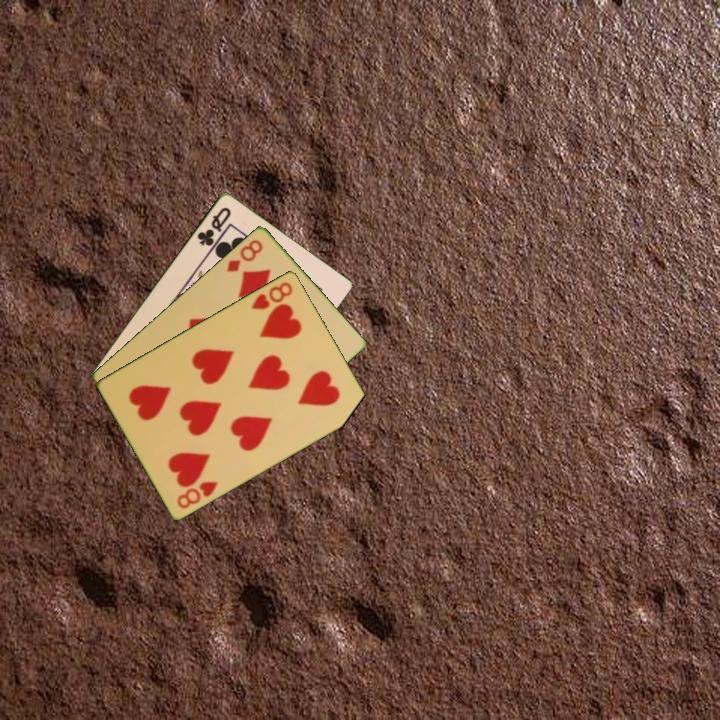8d: (223, 236, 266, 275)
8h: (247, 278, 296, 312), (173, 477, 221, 511)
Qc: (193, 203, 234, 249)
